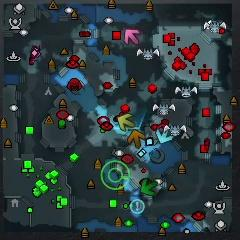Other: (130, 199, 145, 214)
x1: (123, 29, 141, 46)
x2: (117, 112, 135, 130)
x3: (156, 126, 174, 145)
x4: (140, 178, 159, 198)
x5: (127, 129, 146, 149)
